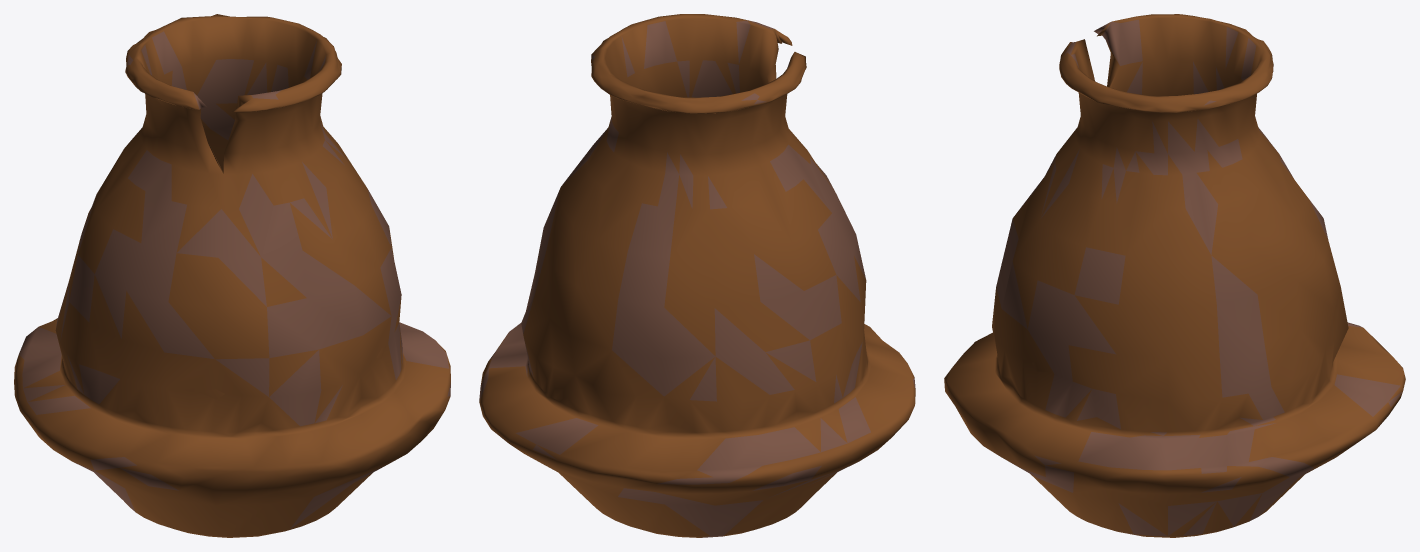
Rendered from Urn_One_1126.fbx.
The picture shows the model from 3 angles, left to right: view 1: azimuth 30°, elevation 25°; view 2: azimuth 150°, elevation 25°; view 3: azimuth 270°, elevation 25°; orthographic projection.
Visible parts, largest first — view 1: Urn_One; view 2: Urn_One; view 3: Urn_One.
Boxes of the visible parts, x1,y1,x2,y2 form: Urn_One: (14,14,450,537); Urn_One: (479,14,915,537); Urn_One: (944,14,1405,537).
Bounding box in the file's own units: 698 × 781 × 722.
